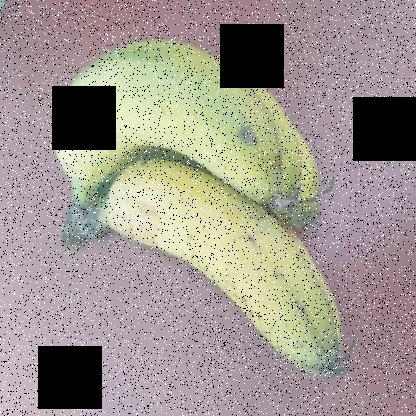freshripe: (43, 19, 314, 203)
ripe: (102, 166, 375, 403)
